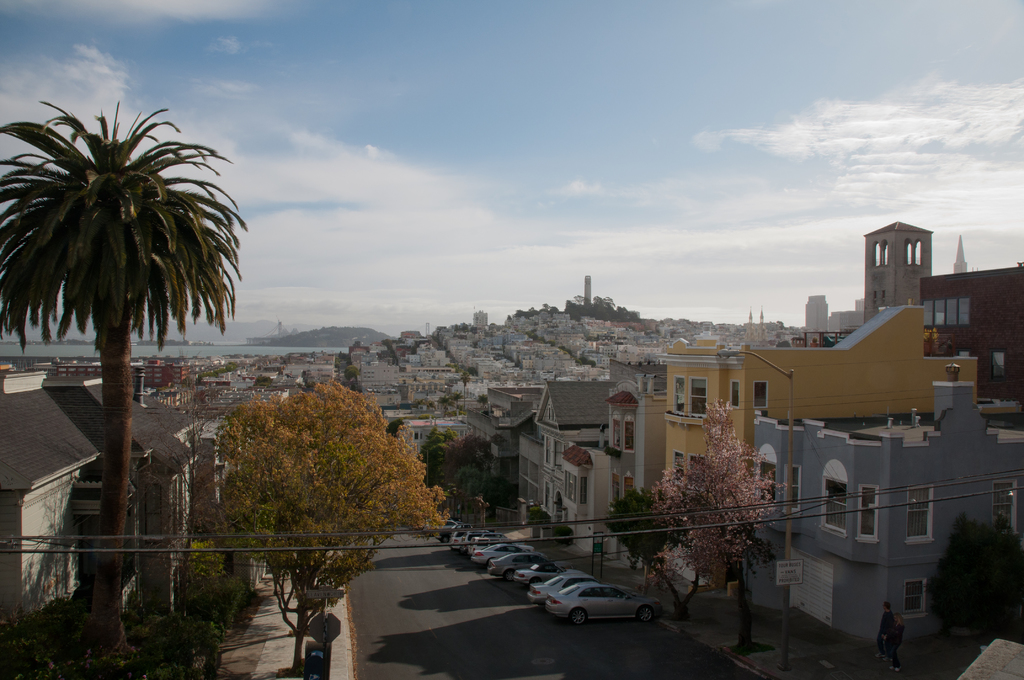Car: (426, 519, 668, 624)
